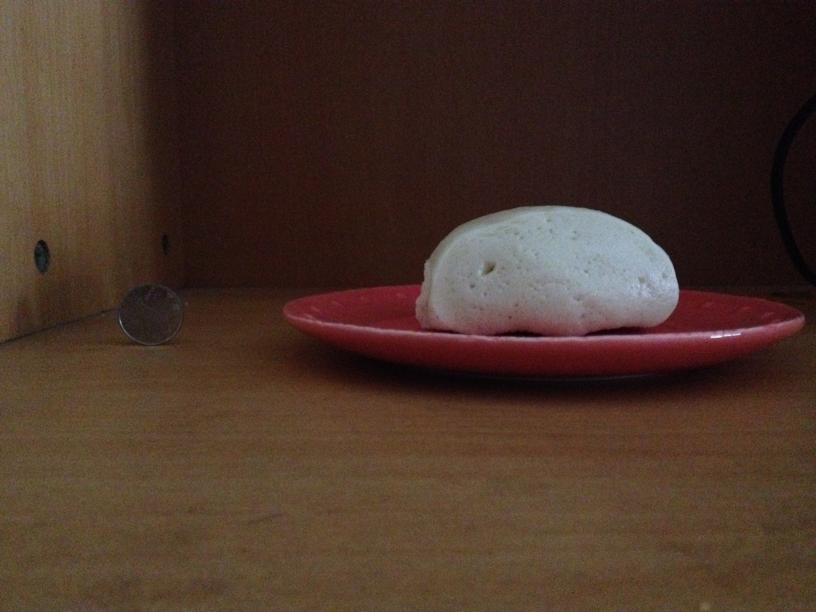bun: (419, 205, 678, 333)
coin: (117, 281, 184, 346)
